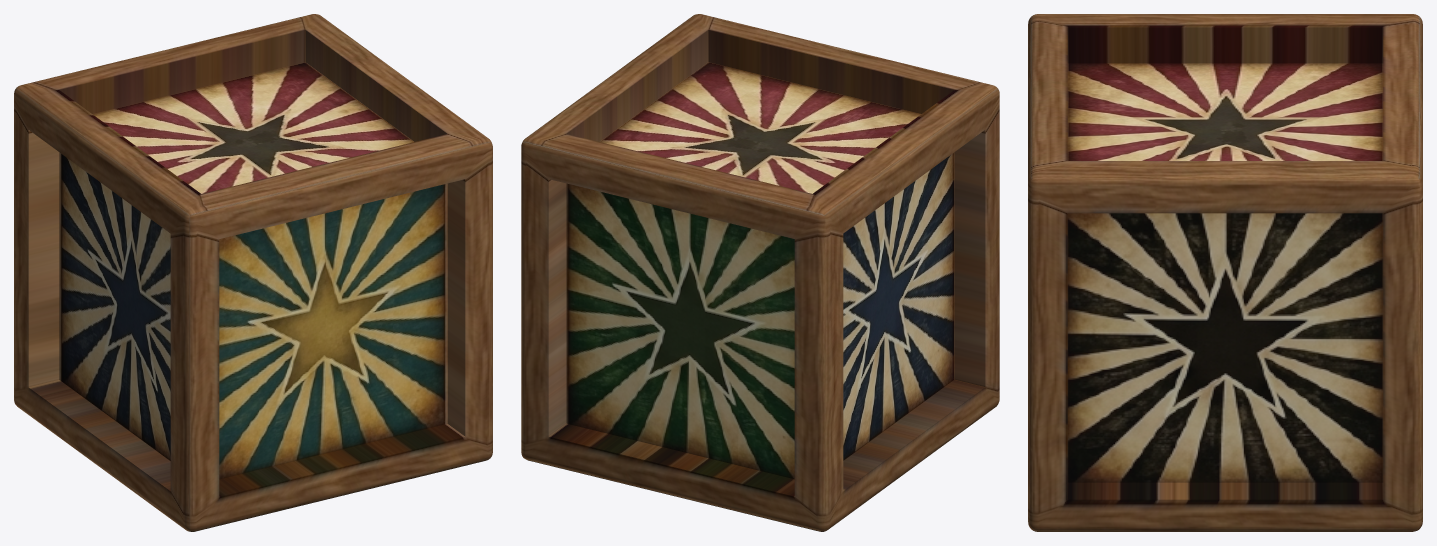
File: WoodStar.fbx
The picture shows the model from 3 angles, left to right: view 1: azimuth 30°, elevation 25°; view 2: azimuth 150°, elevation 25°; view 3: azimuth 270°, elevation 25°; orthographic projection. The views are drawn at different scales.
Parts seen in each view (by area): view 1: Cube; view 2: Cube; view 3: Cube.
Boxes of the visible parts, x1,y1,x2,y2 form: Cube: (14, 14, 492, 531); Cube: (521, 14, 999, 531); Cube: (1028, 14, 1422, 531).
Bounding box in the file's own units: 2 × 2 × 2.
1 material, 1 textured.
